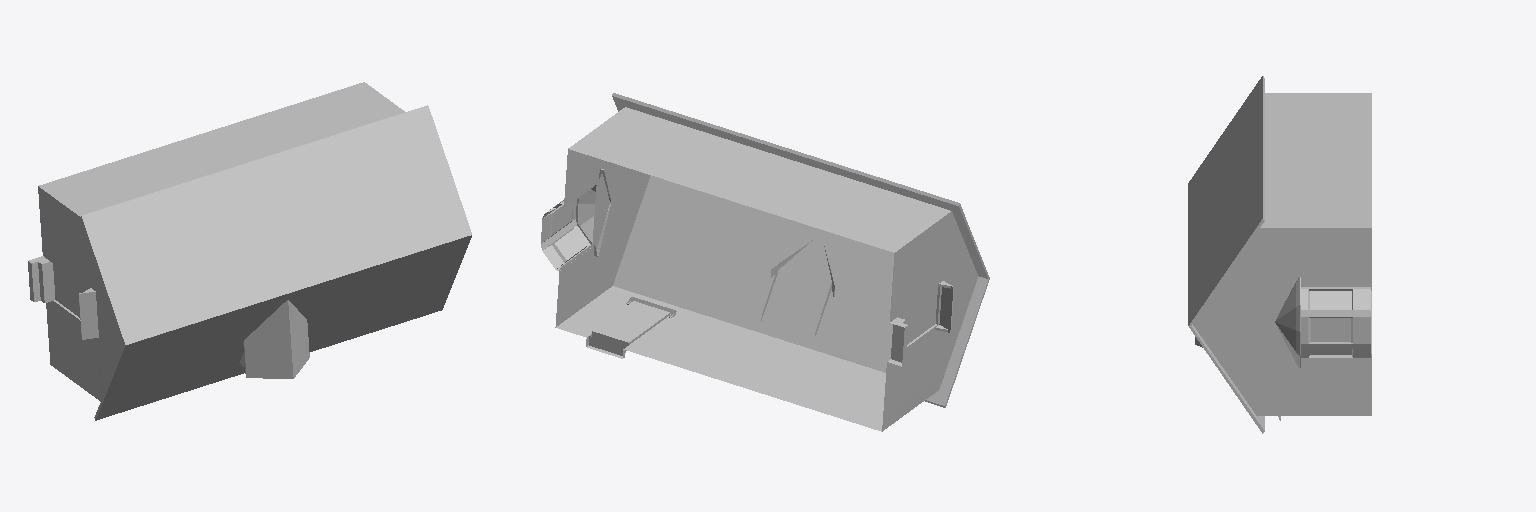
3 renders of one model, left to right at view 1: azimuth 30°, elevation 25°; view 2: azimuth 150°, elevation 25°; view 3: azimuth 270°, elevation 25°, orthographic.
Parts seen in each view (by area): view 1: Cott_Cube; view 2: Cott_Cube; view 3: Cott_Cube.
Part boxes in pixels (x1,y1,x2,y2): Cott_Cube: (28, 82, 471, 420); Cott_Cube: (541, 93, 989, 431); Cott_Cube: (1188, 76, 1371, 433).
Bounding box in the file's own units: 186 × 114 × 80.33.